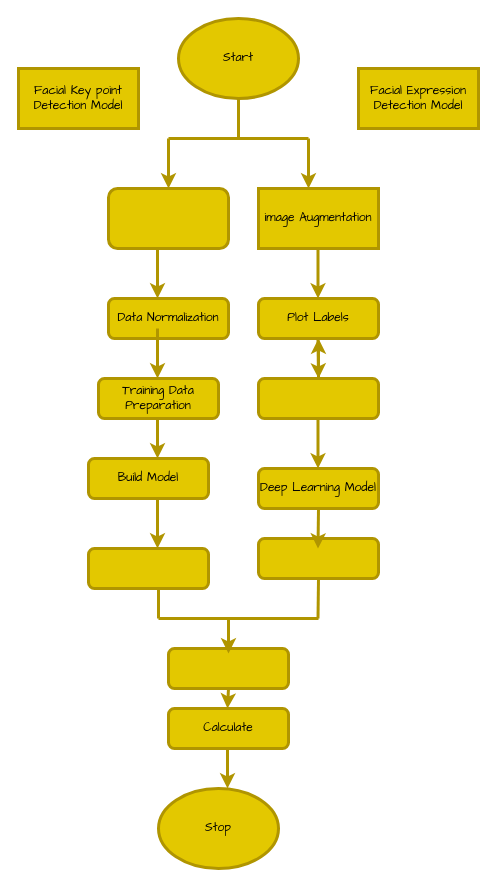
Image size: 497x887. Some labels were removed from this diagram. The shapes that lost their labels are listed below. From the top down, each one's box as (x1, y1, x2, y2) in pixels, then its label:
(106, 186, 230, 250): Image Visualization and Augmentation
(256, 376, 380, 420): Data Preparation
(86, 546, 210, 590): Compile and Train Model
(256, 536, 380, 580): Train Model
(166, 646, 290, 690): Combine
